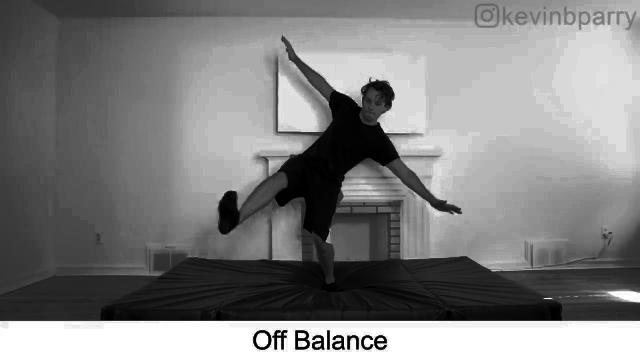jatuh: (197, 35, 466, 287)
